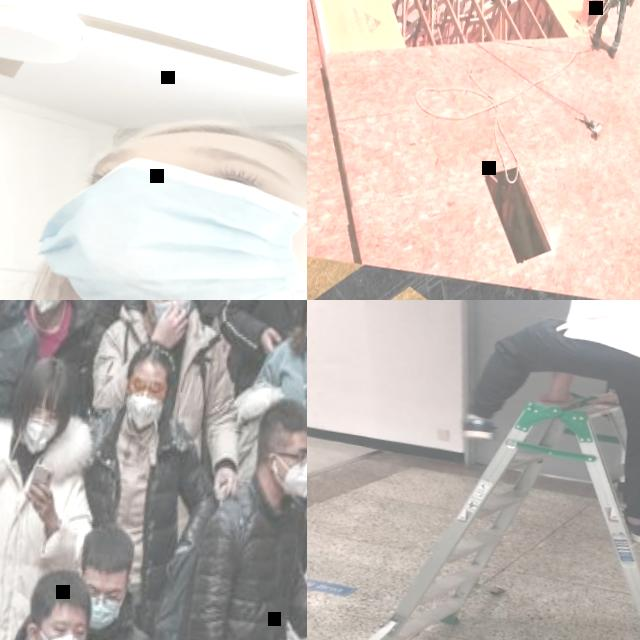Mask: (30, 145, 307, 300), (122, 391, 164, 433), (86, 592, 125, 633), (146, 300, 194, 331), (277, 458, 307, 504), (22, 420, 57, 456), (27, 300, 71, 314)
NO-Hardhat: (121, 108, 307, 184), (25, 566, 95, 621), (79, 521, 141, 580), (23, 352, 80, 412), (257, 392, 307, 440), (129, 335, 180, 379)
NO-Safety Vest: (197, 493, 305, 640), (0, 450, 77, 640), (0, 300, 35, 525), (30, 306, 98, 387), (240, 300, 307, 379), (572, 300, 640, 370), (77, 618, 149, 640)
Person: (0, 87, 307, 300), (66, 330, 234, 627), (448, 300, 640, 552), (72, 300, 258, 541), (164, 381, 307, 640), (0, 341, 113, 640), (234, 300, 307, 524), (53, 520, 178, 640), (0, 300, 116, 427), (0, 558, 143, 640), (210, 300, 307, 405), (90, 300, 238, 363), (587, 0, 634, 59)
